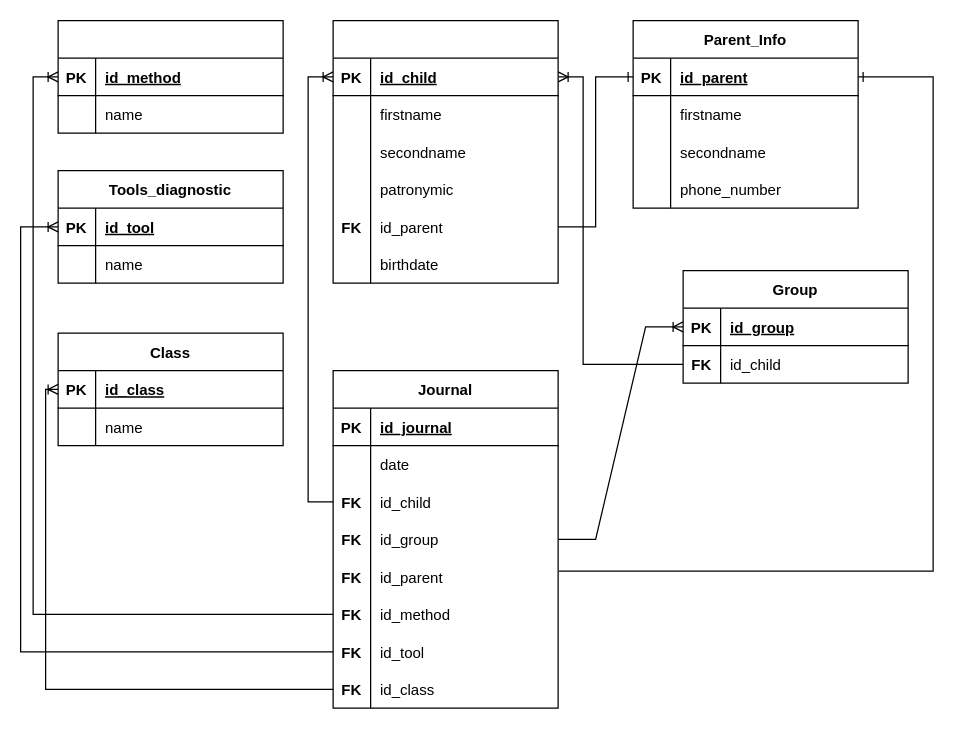
Image size: 954x729. Some labels were removed from this diagram. The box of each missing label's shape, as (x1, y1, x2, y2) in pixels:
Child_Info: (332, 19, 558, 283)
Methods_diagnostic: (57, 19, 283, 133)
